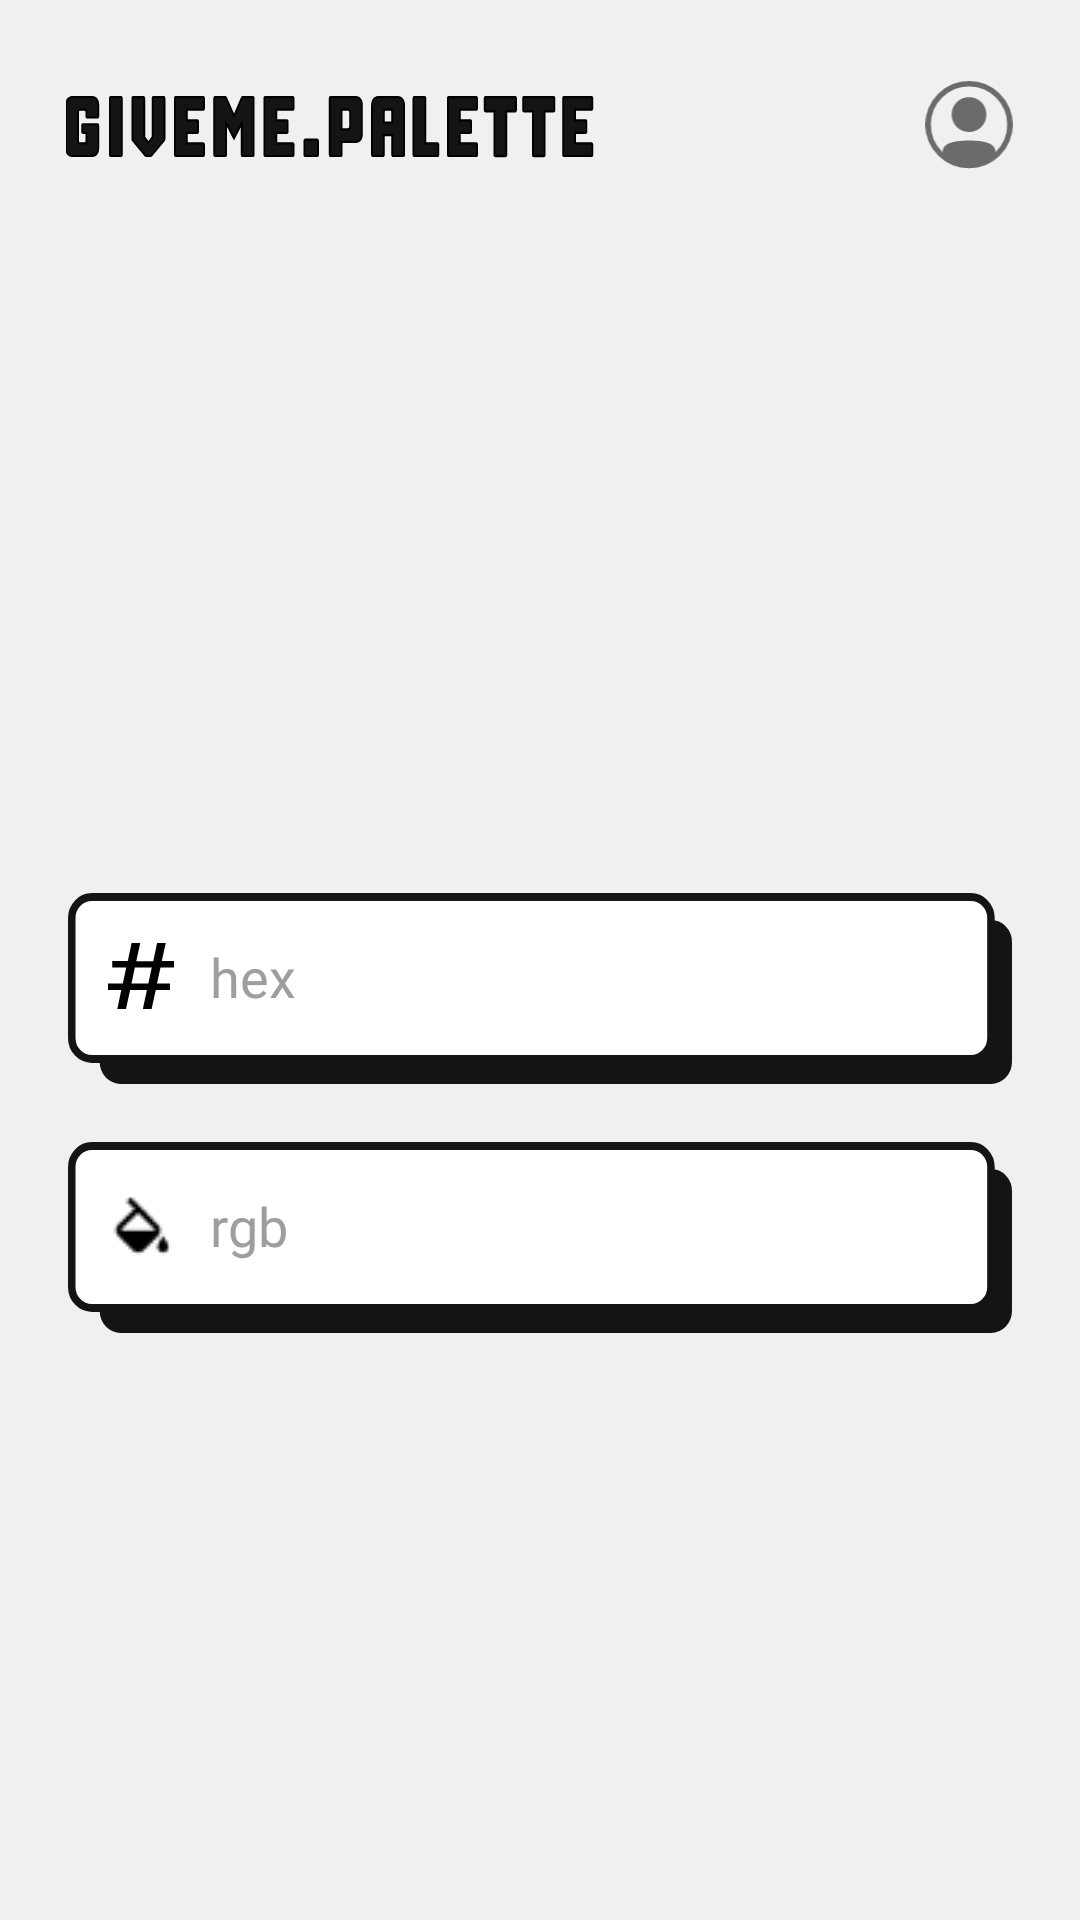

Icons on this 1080x1920 Android screen, each with its box as region(x1, y1, x2, y2):
profileicon: region(925, 81, 1013, 169)
